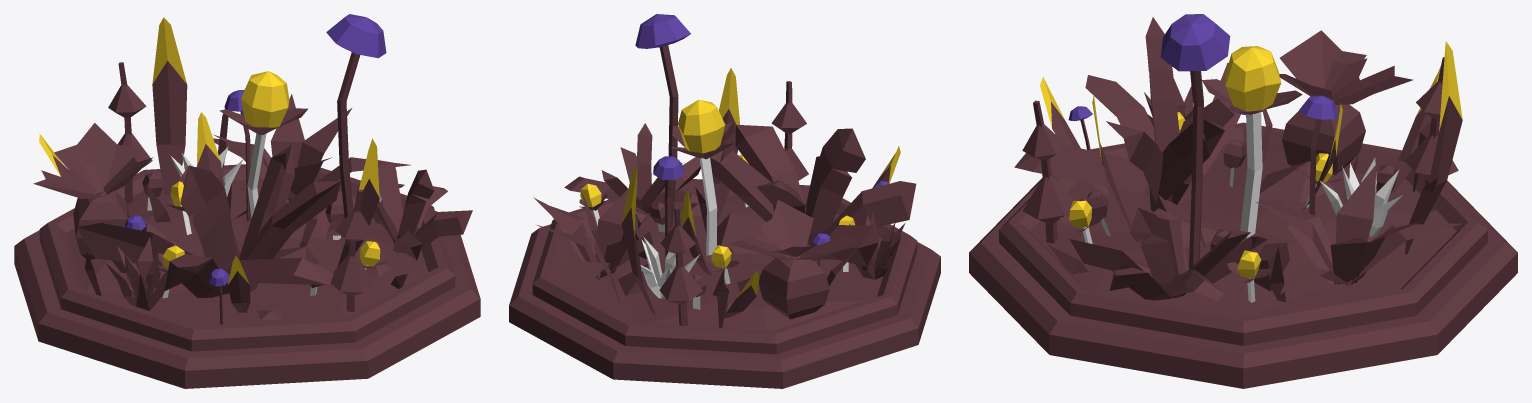
The model's file is scifi-pot-low-plants.fbx.
The picture shows the model from 3 angles, left to right: view 1: azimuth 30°, elevation 25°; view 2: azimuth 150°, elevation 25°; view 3: azimuth 270°, elevation 25°; orthographic projection. The views are drawn at different scales.
Parts seen in each view (by area): view 1: scifi-pot-low-plants; view 2: scifi-pot-low-plants; view 3: scifi-pot-low-plants.
Boxes of the visible parts, x1=… form: scifi-pot-low-plants: x1=14, y1=14, x2=480, y2=388; scifi-pot-low-plants: x1=509, y1=14, x2=940, y2=388; scifi-pot-low-plants: x1=969, y1=14, x2=1517, y2=388.
Bounding box in the file's own units: 2.76 × 1.72 × 2.76.
